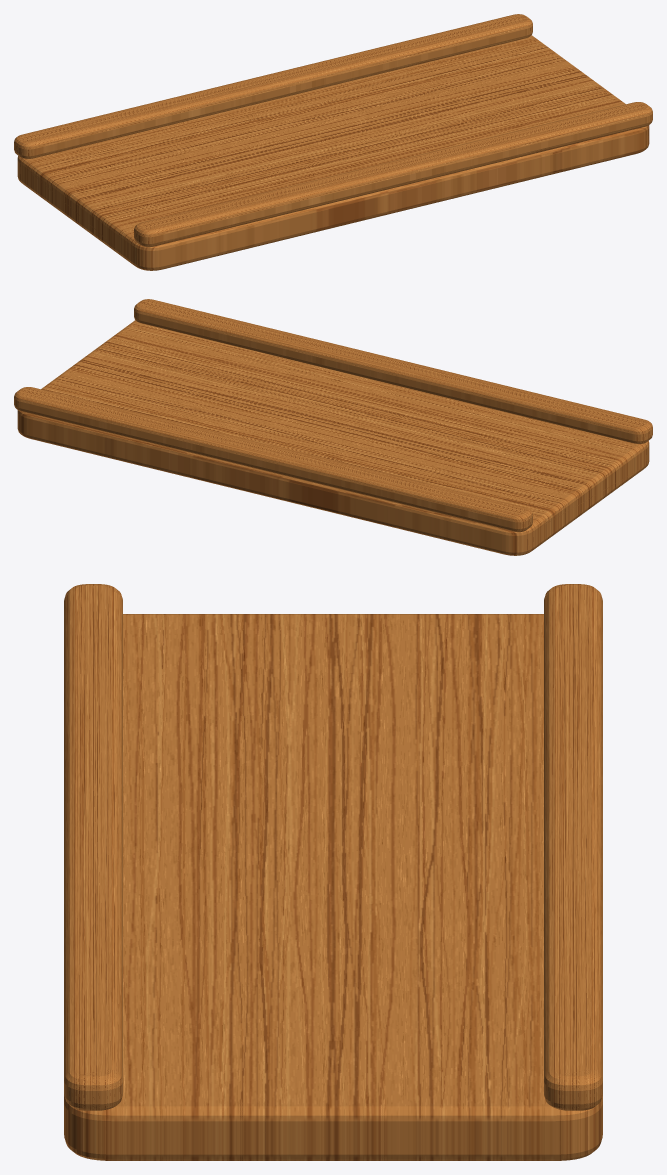
Rendered from BAM-01.glb.
3 renders of one model, top to bottom at view 1: azimuth 30°, elevation 25°; view 2: azimuth 150°, elevation 25°; view 3: azimuth 270°, elevation 25°, orthographic. The views are drawn at different scales.
Bounding box in the file's own units: 0.321 × 0.025 × 0.146.
2 materials, 2 textured.
